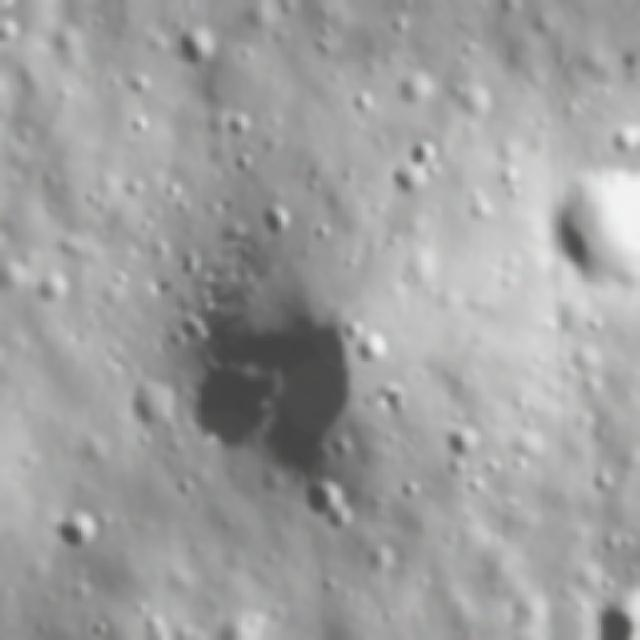crater: (178, 356, 294, 464), (299, 476, 363, 536), (592, 574, 640, 628), (51, 506, 106, 552), (174, 20, 220, 69), (394, 68, 441, 112), (444, 423, 491, 457), (34, 269, 75, 306), (354, 330, 394, 367), (365, 540, 401, 577), (260, 206, 294, 240), (124, 68, 158, 102), (223, 108, 260, 138), (466, 189, 499, 220), (352, 87, 381, 122), (85, 614, 121, 640), (499, 166, 527, 197), (406, 140, 442, 162), (399, 477, 426, 506), (315, 571, 343, 598), (307, 38, 341, 60), (0, 14, 23, 46), (595, 464, 619, 494), (122, 176, 150, 201), (164, 182, 193, 206), (236, 44, 262, 70), (509, 388, 531, 418), (233, 152, 262, 174), (302, 171, 322, 198), (128, 114, 158, 132), (142, 614, 169, 634), (392, 13, 412, 39), (450, 83, 470, 109), (554, 47, 572, 75), (513, 452, 535, 474), (311, 222, 335, 242), (424, 161, 444, 182), (573, 96, 592, 116), (596, 83, 615, 102), (587, 316, 607, 333), (42, 589, 59, 608), (314, 22, 338, 35)
